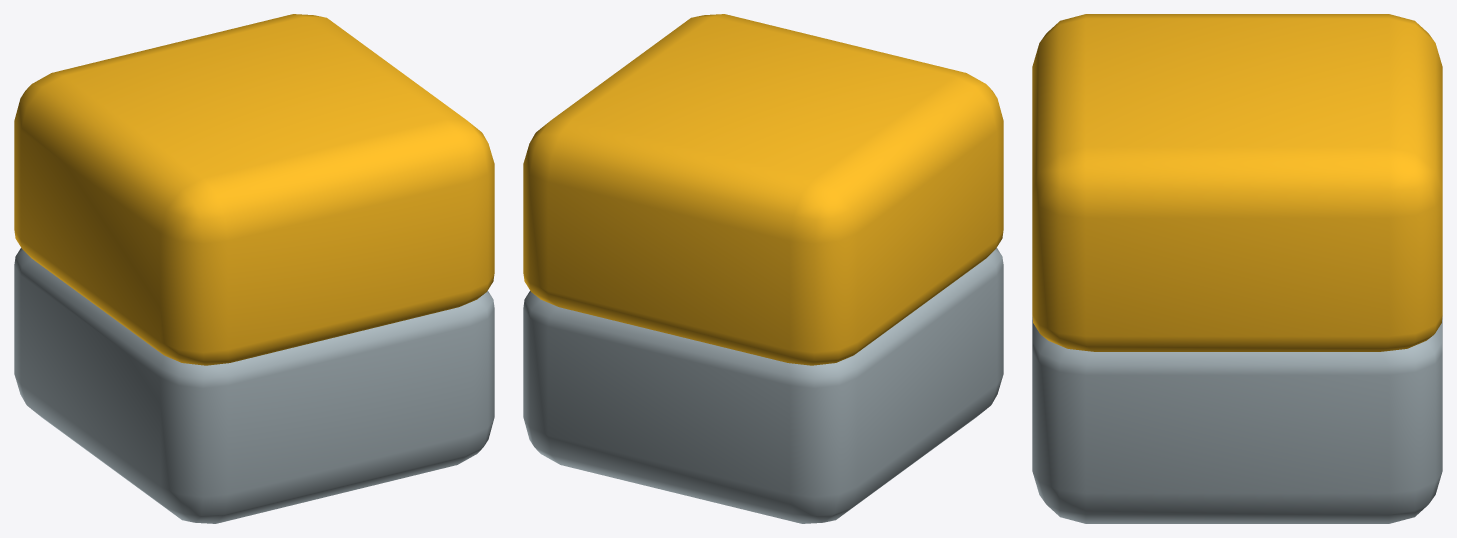
The model's file is tileSmall_teamYellow.glb.
The picture shows the model from 3 angles, left to right: view 1: azimuth 30°, elevation 25°; view 2: azimuth 150°, elevation 25°; view 3: azimuth 270°, elevation 25°; orthographic projection. The views are drawn at different scales.
Visible parts, largest first — view 1: tileSmall_teamYellow; view 2: tileSmall_teamYellow; view 3: tileSmall_teamYellow.
Boxes of the visible parts, x1,y1,x2,y2 form: tileSmall_teamYellow: (14, 14, 494, 523); tileSmall_teamYellow: (523, 14, 1003, 523); tileSmall_teamYellow: (1032, 14, 1442, 523).
Bounding box in the file's own units: 0.3 × 0.3 × 0.3.
